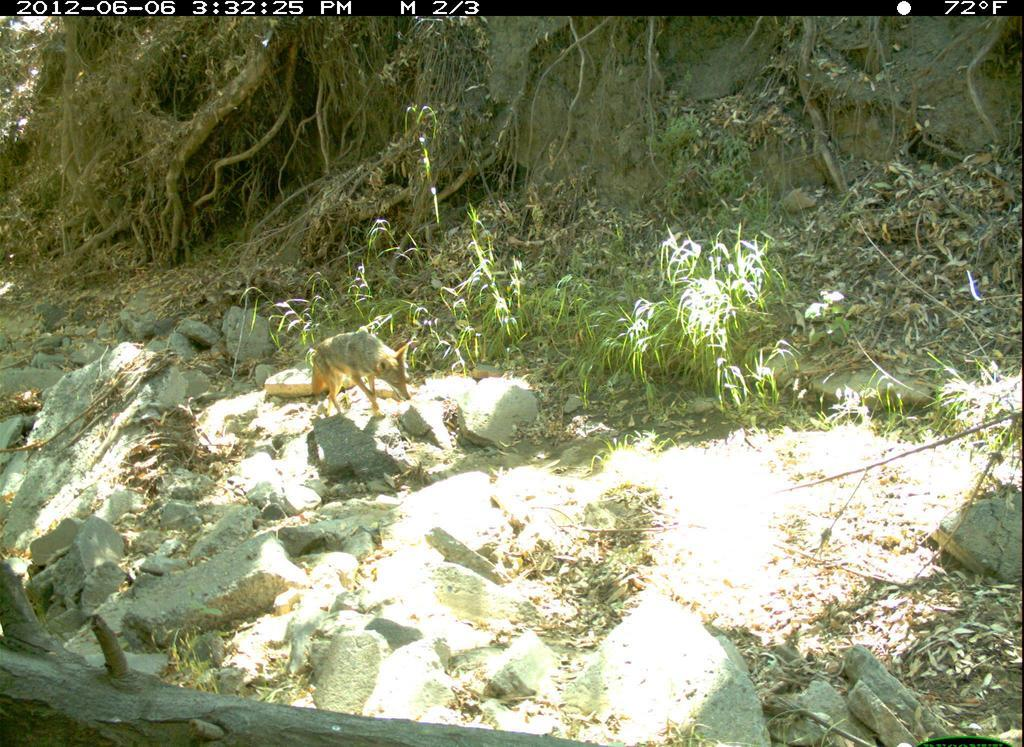coyote: (301, 326, 432, 425)
